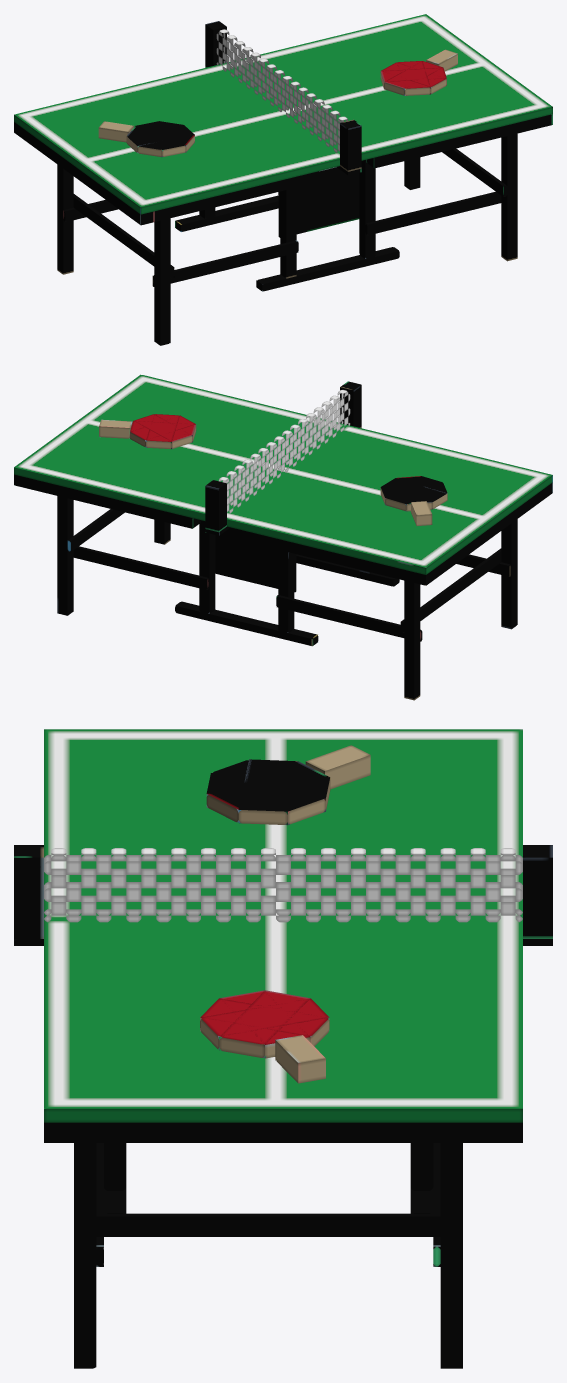
File: tennis_table.fbx
The picture shows the model from 3 angles, top to bottom: view 1: azimuth 30°, elevation 25°; view 2: azimuth 150°, elevation 25°; view 3: azimuth 270°, elevation 25°; orthographic projection. The views are drawn at different scales.
Parts seen in each view (by area): view 1: cube_1, cube_26, cube_20, cube_14, cube_12, cube_6, cube_9, cube_31, cube_29, cube_21, cube_13, cube_8 (+18 smaller); view 2: cube_1, cube_26, cube_19, cube_13, cube_7, cube_11, cube_10, cube_22, cube_18, cube_23, cube_14, cube_8 (+16 smaller); view 3: cube_1, cube_26, cube_5, cube_24, cube_11, cube_12, octagon_4, octagon, cube, cube_4, octagon_1, octagon_5 (+10 smaller).
Part boxes in pixels (left/top/right/bottom): cube_1: left=14, top=14, right=552, bottom=214; cube_26: left=216, top=29, right=348, bottom=152; cube_20: left=278, top=167, right=359, bottom=237; cube_14: left=154, top=218, right=170, bottom=345; cube_12: left=501, top=133, right=517, bottom=261; cube_6: left=366, top=117, right=539, bottom=168; cube_9: left=154, top=171, right=319, bottom=221; cube_31: left=365, top=191, right=501, bottom=235; cube_29: left=256, top=247, right=399, bottom=291; cube_21: left=152, top=240, right=298, bottom=286; cube_13: left=57, top=164, right=73, bottom=274; cube_8: left=14, top=122, right=154, bottom=225; cube_1: left=14, top=374, right=552, bottom=574; cube_26: left=218, top=390, right=350, bottom=513; cube_19: left=215, top=527, right=296, bottom=592; cube_13: left=404, top=580, right=420, bottom=700; cube_7: left=27, top=478, right=200, bottom=528; cube_11: left=57, top=496, right=73, bottom=615; cube_10: left=247, top=531, right=412, bottom=582; cube_22: left=73, top=546, right=209, bottom=589; cube_18: left=175, top=601, right=318, bottom=646; cube_23: left=276, top=595, right=422, bottom=641; cube_14: left=501, top=519, right=517, bottom=629; cube_8: left=412, top=482, right=552, bottom=585; cube_1: left=44, top=729, right=522, bottom=1122; cube_26: left=44, top=848, right=522, bottom=922; cube_5: left=44, top=1122, right=522, bottom=1142; cube_24: left=96, top=1213, right=440, bottom=1236; cube_11: left=440, top=1143, right=462, bottom=1368; cube_12: left=74, top=1143, right=96, bottom=1368; octagon_4: left=238, top=759, right=297, bottom=825; octagon: left=219, top=990, right=310, bottom=1057; cube: left=523, top=845, right=552, bottom=938; cube_4: left=14, top=845, right=43, bottom=938; octagon_1: left=200, top=998, right=329, bottom=1050; octagon_5: left=213, top=760, right=325, bottom=824.
Bounding box in the file's own units: 188 × 81.25 × 112.
2 materials, 2 textured.
